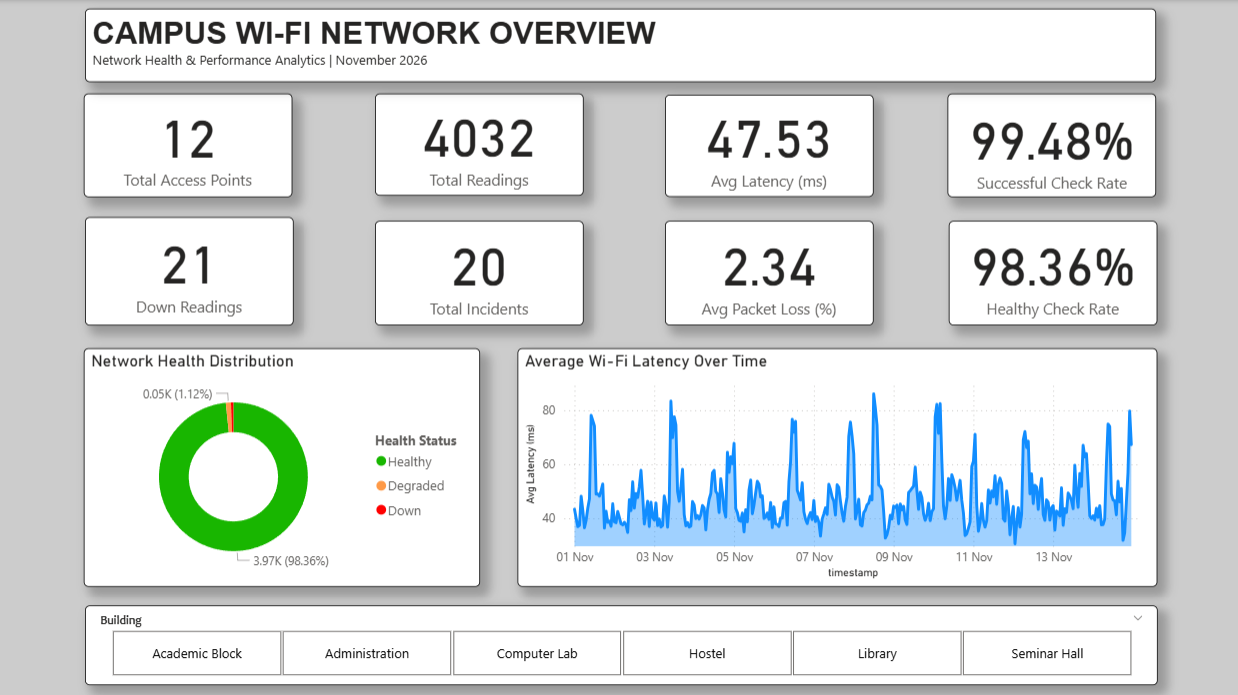

The dashboard page shown, as its layout file describes it:
{"tool":"powerbi","page":{"name":"Campus Network Overview","canvas":[1280,720],"ordinal":0},"visuals":[{"type":"card","title":"Total Access Points","fields":{"Values":["access_points.Total APs"]},"box":[86.4,96.7,215.3,107],"z":0},{"type":"card","fields":{"Values":["network_readings.Total Readings"]},"box":[386.8,96.7,215.3,105.7],"z":1000},{"type":"card","fields":{"Values":["network_readings.Successful Check Rate"]},"box":[977.3,96.7,215.3,107],"z":2000},{"type":"card","fields":{"Values":["network_readings.Healthy Check Rate"]},"box":[978.6,228.2,215.3,108.3],"z":3000},{"type":"card","fields":{"Values":["network_readings.Down Readings"]},"box":[87.7,224.3,215.3,112.2],"z":4000},{"type":"card","fields":{"Values":["incidents.Total Incidents"]},"box":[386.8,228.2,215.3,108.3],"z":5000},{"type":"donutChart","title":"Network Health Distribution","fields":{"Y":["CountNonNull(network_readings.reading_id)"],"Category":["network_readings.Health Status"]},"box":[86.4,359.7,408.7,246.3],"z":6000},{"type":"areaChart","title":"Average Wi-Fi Latency Over Time","fields":{"Category":["network_readings.timestamp"],"Y":["network_readings.Avg Latency (ms)"]},"box":[533.8,359.7,660.1,246.3],"z":7000},{"type":"slicer","title":"Building","fields":{"Values":["access_points.building"]},"box":[87.7,625.3,1106.2,82.5],"z":8000},{"type":"textbox","box":[87.7,9,1104.9,76.1],"z":9000},{"type":"card","fields":{"Values":["network_readings.Avg Latency (ms)"]},"box":[685.9,98,215.3,105.7],"z":10000},{"type":"card","fields":{"Values":["network_readings.Avg Packet Loss (%)"]},"box":[685.9,228.2,215.3,108.3],"z":11000}]}

Visuals, with their boxes in screenshot pixels (x1, y1, x2, y2), scaled from the page's 1280x720 canvas onto the 1238x695 screenshot:
"Total Access Points" card: x1=84, y1=93, x2=292, y2=197
card - network_readings.Total Readings: x1=374, y1=93, x2=582, y2=195
card - network_readings.Successful Check Rate: x1=945, y1=93, x2=1153, y2=197
card - network_readings.Healthy Check Rate: x1=946, y1=220, x2=1155, y2=325
card - network_readings.Down Readings: x1=85, y1=217, x2=293, y2=325
card - incidents.Total Incidents: x1=374, y1=220, x2=582, y2=325
"Network Health Distribution" donutChart: x1=84, y1=347, x2=479, y2=585
"Average Wi-Fi Latency Over Time" areaChart: x1=516, y1=347, x2=1155, y2=585
"Building" slicer: x1=85, y1=604, x2=1155, y2=683
textbox: x1=85, y1=9, x2=1153, y2=82
card - network_readings.Avg Latency (ms): x1=663, y1=95, x2=872, y2=197
card - network_readings.Avg Packet Loss (%): x1=663, y1=220, x2=872, y2=325
